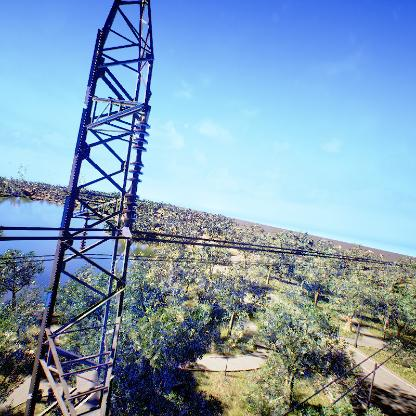insulator: (119, 119, 153, 225)
